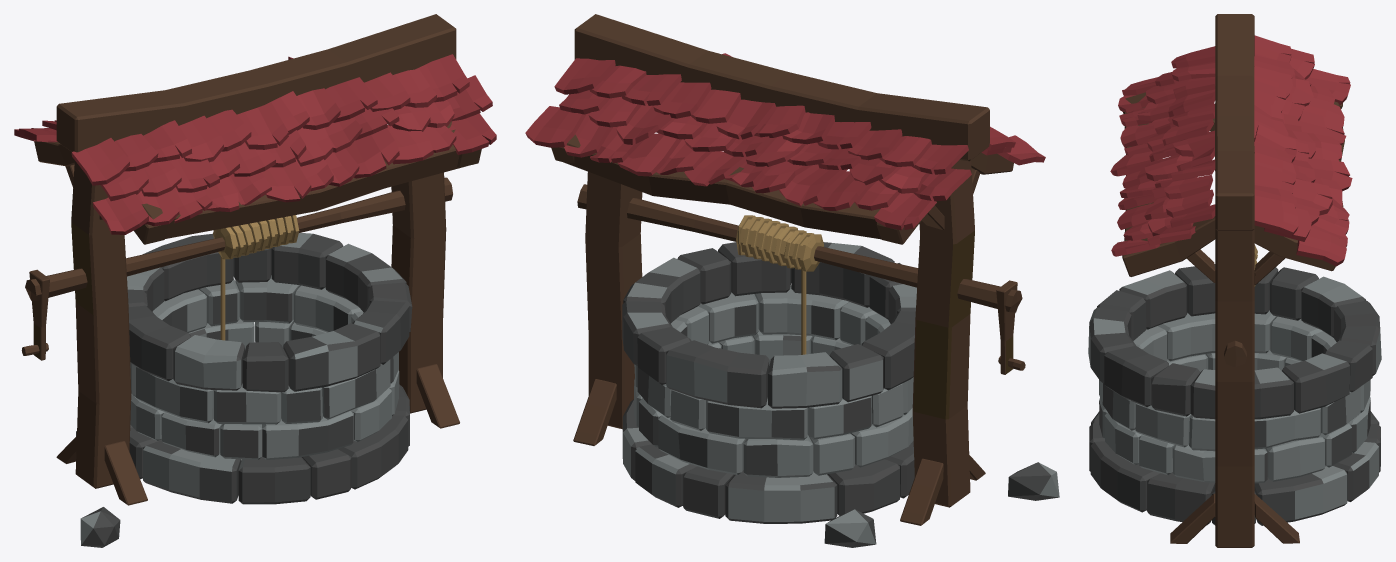
Rendered from Brunnen2.fbx.
3 views of the same model, side by side, from view 1: azimuth 30°, elevation 25°; view 2: azimuth 150°, elevation 25°; view 3: azimuth 270°, elevation 25° (orthographic). The views are drawn at different scales.
Parts seen in each view (by area): view 1: Brunnen2; view 2: Brunnen2; view 3: Brunnen2.
Boxes of the visible parts, x1,y1,x2,y2 form: Brunnen2: [14, 14, 496, 547]; Brunnen2: [525, 14, 1059, 547]; Brunnen2: [1088, 14, 1381, 547].
Size of the model in its own units: 2422 by 2173 by 1494.
